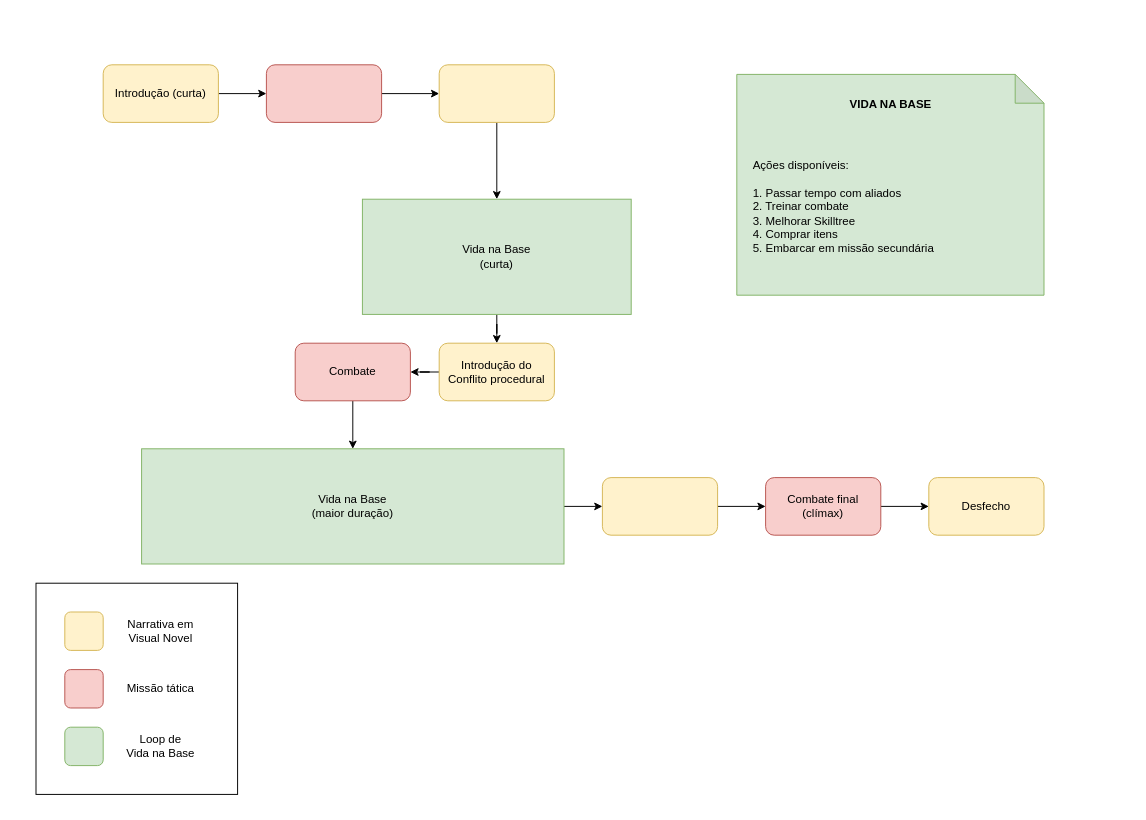
This 1146x820 diagram has some shape labels left out. Each missing label, with the centre of its shape:
"Combate (tutorial)" goes at [323,93].
"Introdução à vida na base" goes at [496,93].
"Preparação pra resolução do conflito" goes at [659,506].
